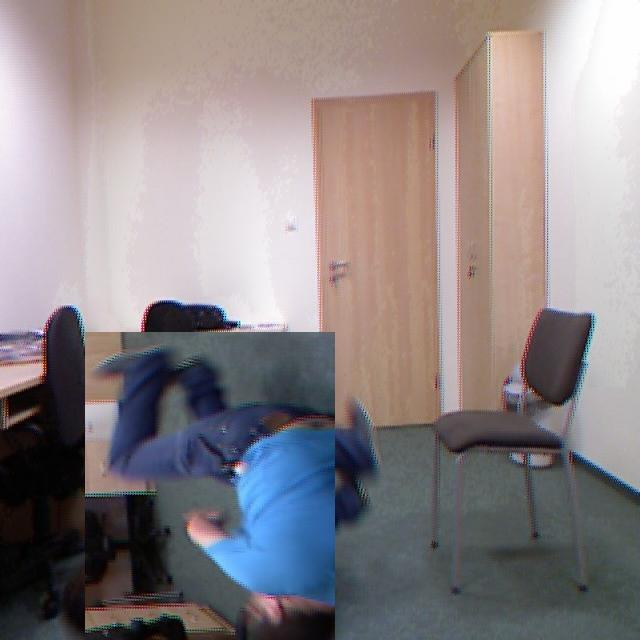Fall: (70, 342, 347, 640)
